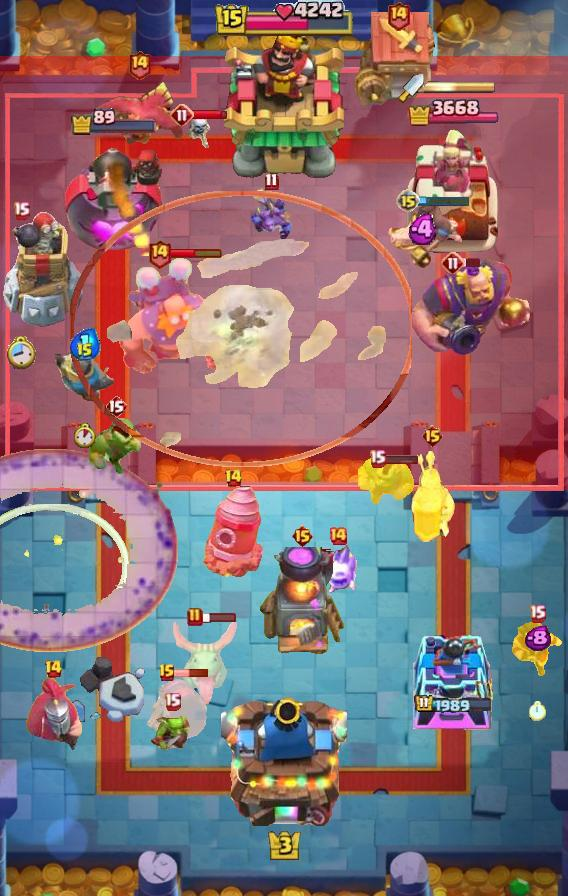bar: (403, 124, 503, 256)
clock: (213, 0, 355, 40)
earthquake: (405, 450, 459, 548)
electro-spirit: (70, 328, 101, 361), (408, 214, 440, 245), (525, 625, 551, 652)
electro-wizard: (170, 618, 240, 704)
elixir: (6, 336, 36, 371), (74, 423, 96, 448), (529, 701, 547, 721)
emote: (417, 195, 470, 207), (169, 247, 222, 259), (192, 109, 228, 121), (383, 453, 419, 465), (201, 611, 237, 623), (174, 668, 209, 678), (462, 257, 482, 268)
firecracker: (55, 350, 115, 402)
flying-machine: (86, 417, 146, 475), (357, 456, 417, 510)
freeze: (385, 202, 463, 274)
heal-spirit: (185, 114, 213, 150)
hunter: (258, 547, 346, 657)
king-tower: (224, 29, 344, 181), (221, 690, 347, 826)
king-tower-bar: (424, 80, 496, 94)
lightning: (410, 259, 534, 357)
little-prince: (117, 255, 229, 375)
lumberjack: (509, 620, 565, 678)
magic-archer: (203, 484, 263, 578)
mirror: (318, 545, 358, 595)
mother-witch: (91, 82, 187, 150)
queen-tower: (412, 623, 494, 731)
rocket: (0, 448, 178, 652)
royal-delivery: (249, 186, 293, 242)
royal-ghost: (70, 191, 412, 467)
royal-giant-evolution: (144, 675, 212, 745)
selected: (407, 95, 499, 131), (70, 108, 158, 136), (414, 693, 494, 714)
sparky: (355, 11, 441, 109)
text: (385, 0, 410, 31), (128, 49, 153, 80), (147, 238, 172, 269), (170, 103, 194, 127), (396, 189, 420, 213), (441, 251, 465, 275), (420, 424, 443, 448), (290, 524, 313, 548), (105, 394, 127, 418), (328, 526, 348, 546), (225, 468, 244, 488), (44, 659, 63, 679), (76, 342, 94, 362), (158, 663, 176, 683), (369, 449, 387, 468), (529, 605, 547, 623), (163, 693, 181, 711), (187, 607, 203, 627), (13, 201, 30, 219), (264, 173, 279, 191)
tower-bar: (63, 138, 164, 256)
wall-breaker-evolution: (23, 674, 83, 754)
zap: (150, 710, 194, 752)
zappy: (0, 210, 84, 332)
